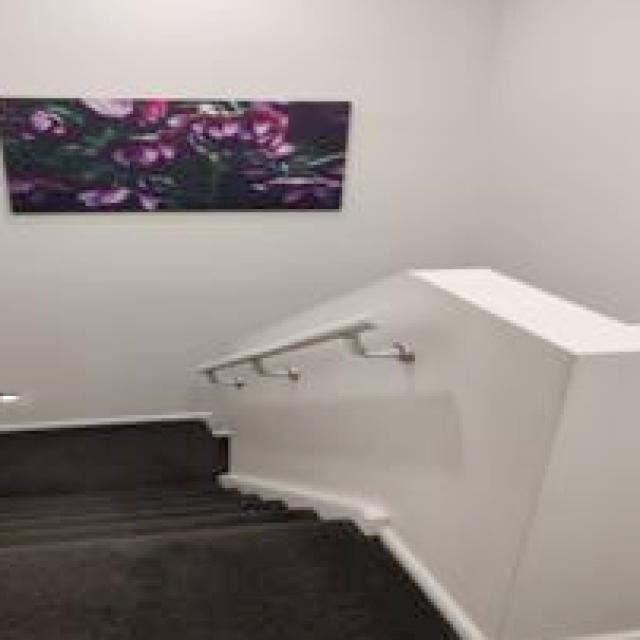downstair: (1, 473, 296, 603)
